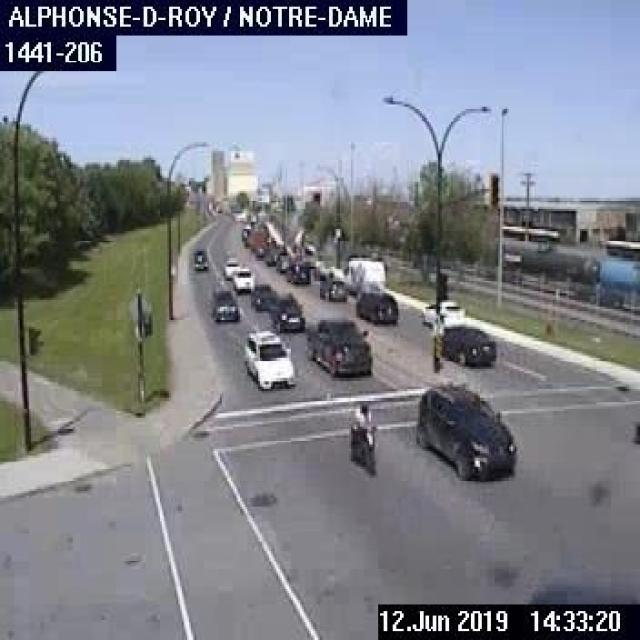vehicle: (411, 380, 516, 480), (303, 313, 378, 377), (241, 326, 296, 392), (436, 321, 500, 367), (346, 393, 376, 471), (340, 252, 386, 290), (353, 286, 397, 325), (268, 291, 306, 332), (419, 294, 461, 328), (208, 284, 239, 323), (317, 270, 348, 301), (283, 256, 313, 284), (248, 281, 273, 312), (229, 266, 254, 290), (188, 244, 208, 269), (222, 258, 240, 280)
